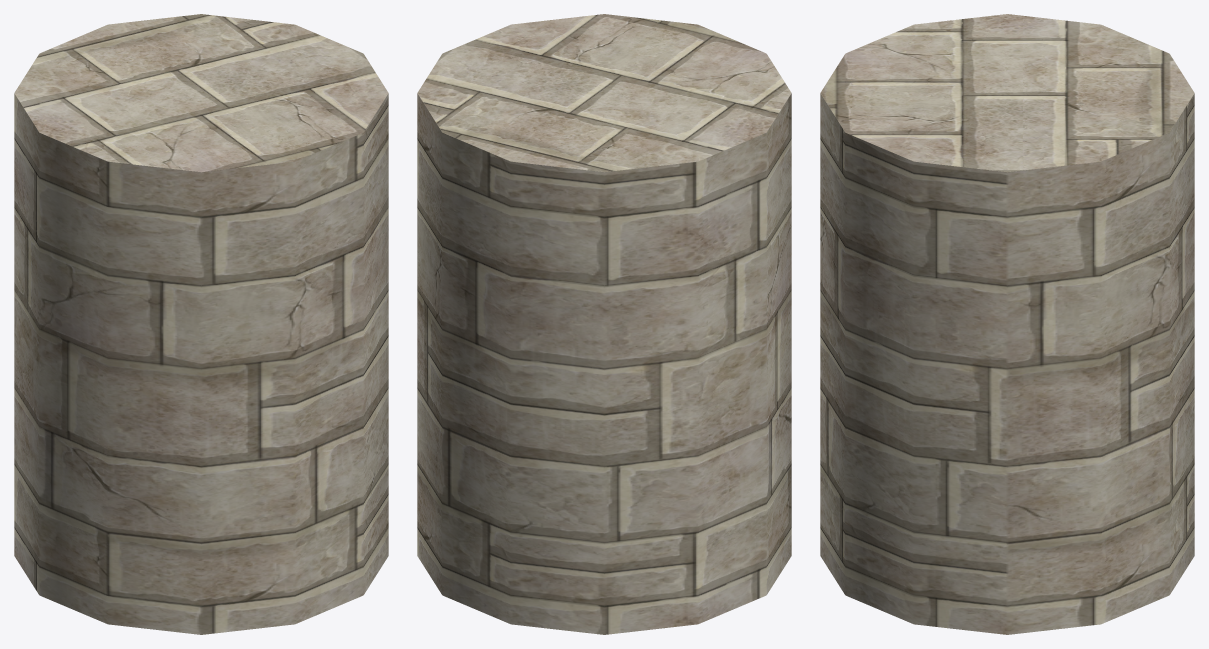
Rendered from PIL0110007.FBX.
3 views of the same model, side by side, from view 1: azimuth 30°, elevation 25°; view 2: azimuth 150°, elevation 25°; view 3: azimuth 270°, elevation 25° (orthographic).
Parts seen in each view (by area): view 1: smPIL0110007; view 2: smPIL0110007; view 3: smPIL0110007.
Boxes of the visible parts, <box> form: smPIL0110007: <box>14,14,388,634</box>; smPIL0110007: <box>417,14,791,634</box>; smPIL0110007: <box>820,14,1194,634</box>.
Size of the model in its own units: 0.6275 by 0.8557 by 0.6275.
Materials: 1 (1 with a texture image).
